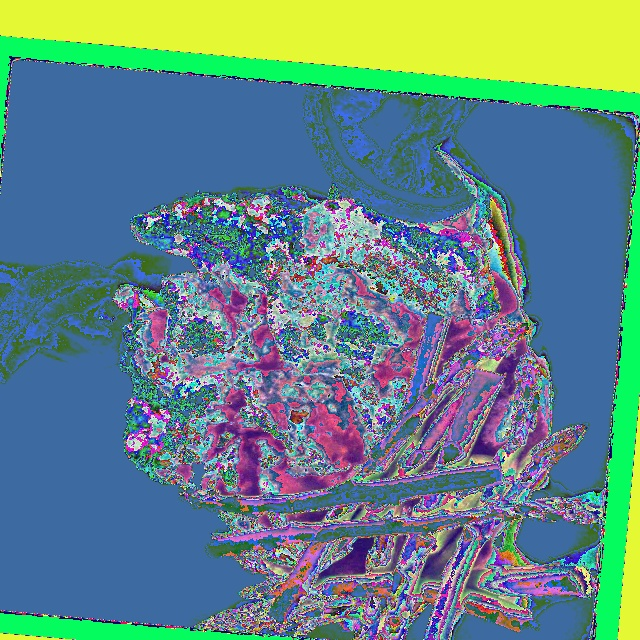background: (0, 86, 604, 639)
